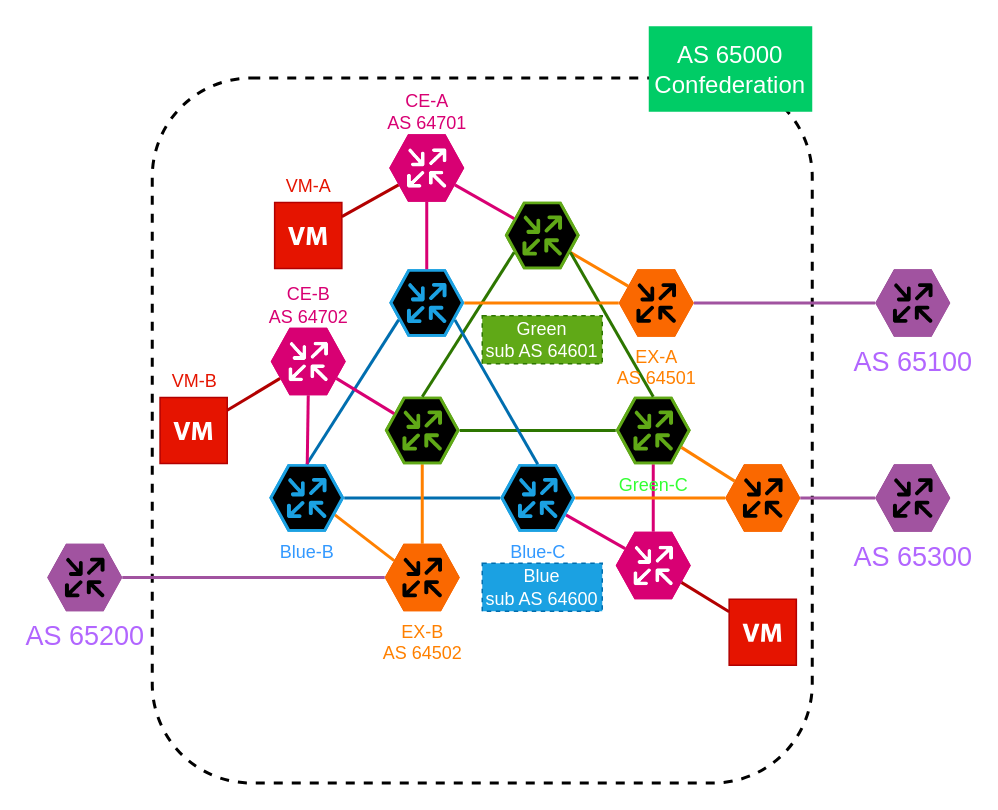
This 998x810 diagram has some shape labels left out. Here are the shapes that lost their labels. From the top down, the centre of each, then its label:
(541,234): Green-A
(426,302): Blue-A
(421,429): Green-B
(762,497): EX-C AS 64503
(652,564): CE-C AS 64703
